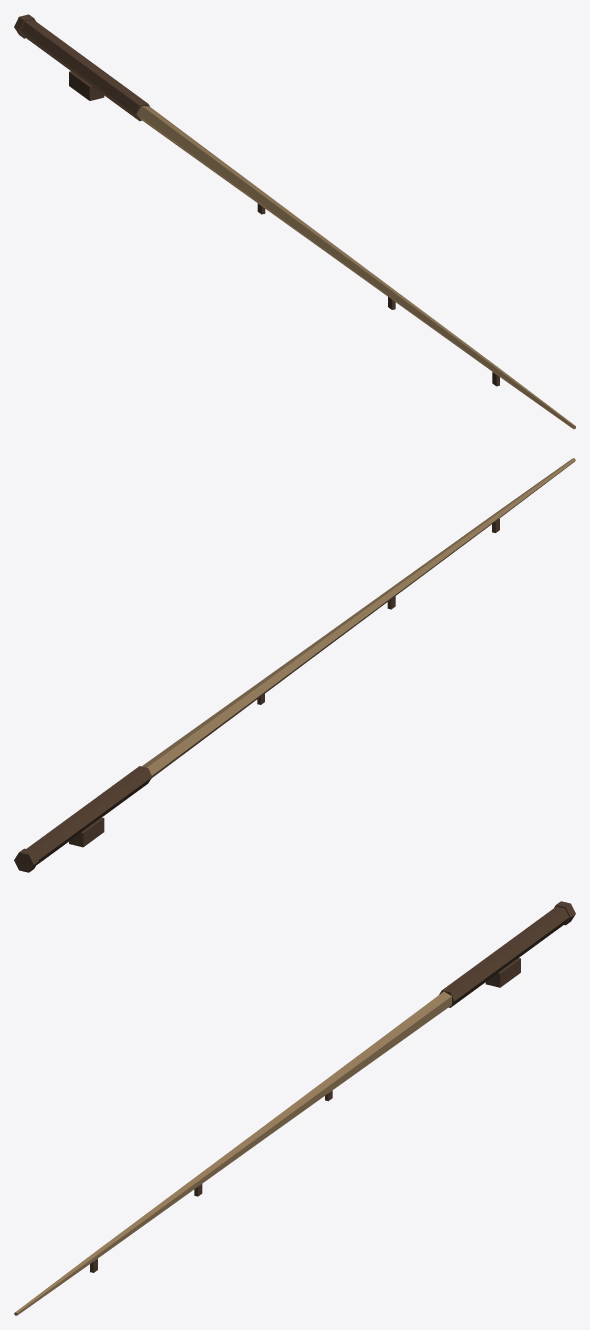
File: FishingRod.fbx
3 views of the same model, one above another, from view 1: azimuth 30°, elevation 25°; view 2: azimuth 150°, elevation 25°; view 3: azimuth 330°, elevation 25° (orthographic).
Parts seen in each view (by area): view 1: FishingRod; view 2: FishingRod; view 3: FishingRod.
Part boxes in pixels (bbox=[...]): FishingRod: bbox=[14, 14, 575, 429]; FishingRod: bbox=[14, 458, 575, 872]; FishingRod: bbox=[14, 901, 575, 1315].
Bounding box in the file's own units: 0.044 × 0.0641 × 2.11.
